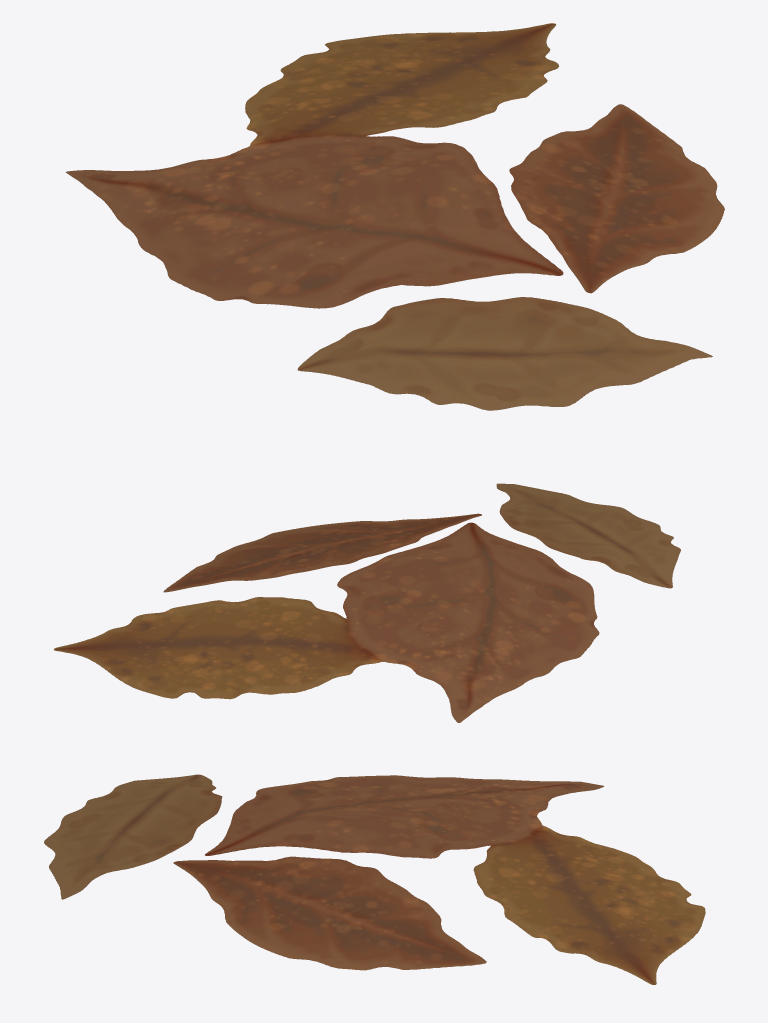
File: MSH_fwOF_Leaves_06.fbx
3 views of the same model, one above another, from view 1: azimuth 30°, elevation 25°; view 2: azimuth 150°, elevation 25°; view 3: azimuth 270°, elevation 25° (orthographic). The views are drawn at different scales.
Parts seen in each view (by area): view 1: MSH_fwOF_Leaves_06; view 2: MSH_fwOF_Leaves_06; view 3: MSH_fwOF_Leaves_06.
Part boxes in pixels (x1=…): MSH_fwOF_Leaves_06: x1=66, y1=23, x2=724, y2=410; MSH_fwOF_Leaves_06: x1=54, y1=483, x2=680, y2=722; MSH_fwOF_Leaves_06: x1=44, y1=774, x2=705, y2=984.
Size of the model in its own units: 0.2383 by 0.0214 by 0.3101.
